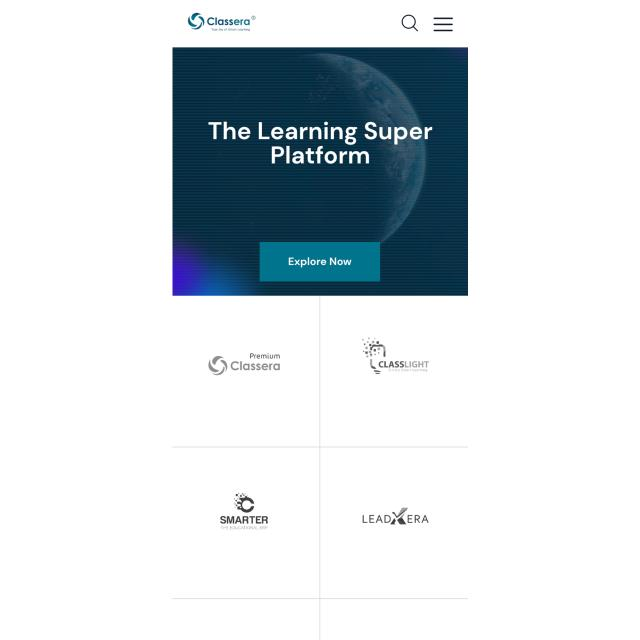logo: (356, 331, 440, 387), (203, 339, 295, 381), (208, 488, 276, 540), (357, 501, 442, 534), (186, 8, 261, 38)
navigation: (429, 10, 460, 38)
